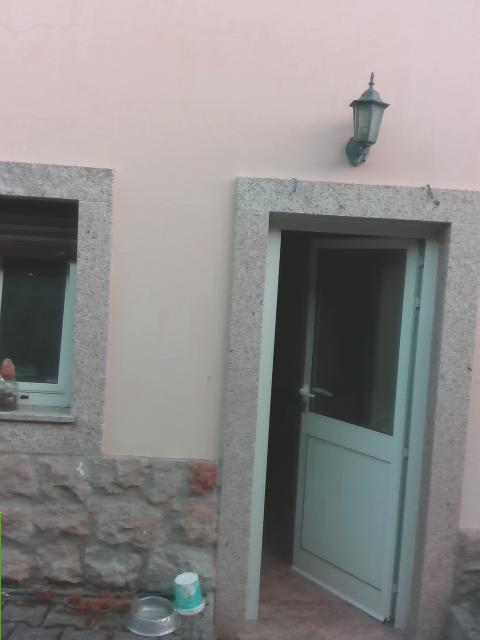semi_door: (254, 220, 428, 626)
